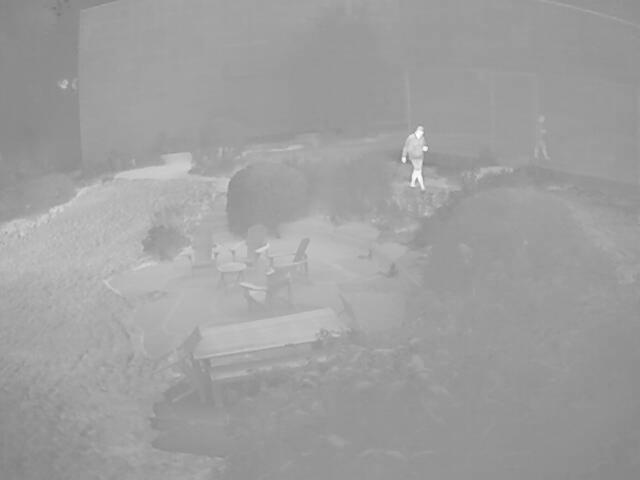person: (401, 126, 430, 190), (529, 111, 549, 162)
